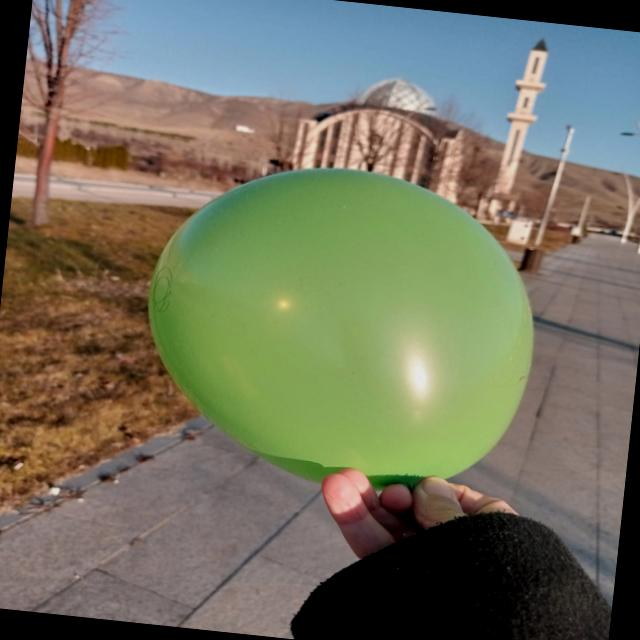balloon: (149, 168, 533, 488)
